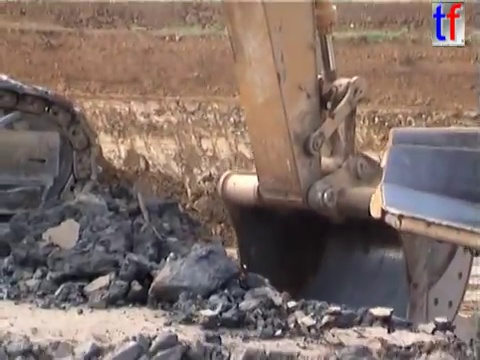excavator: (1, 1, 480, 360)
truck: (366, 122, 480, 261)
